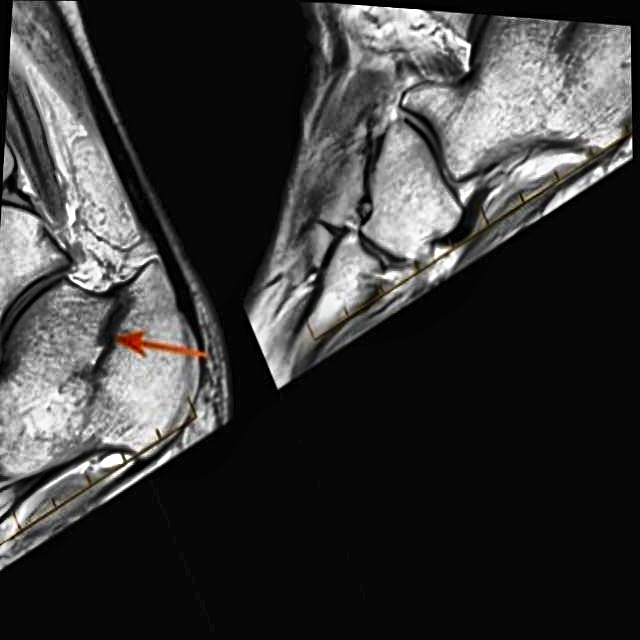Oblique Displaced: (74, 258, 145, 412)
